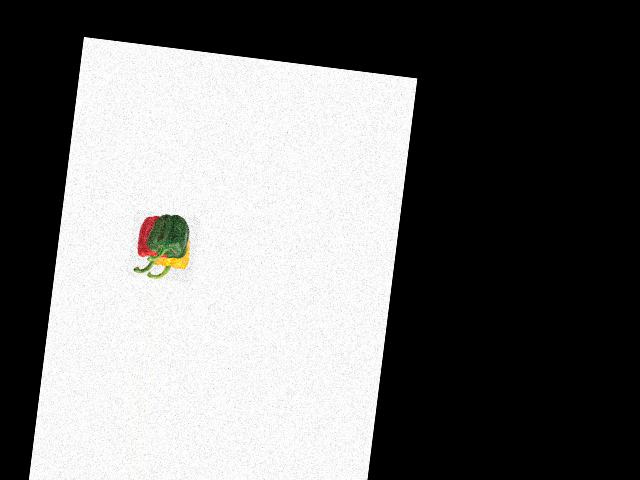bell_pepper: (126, 211, 171, 277)
